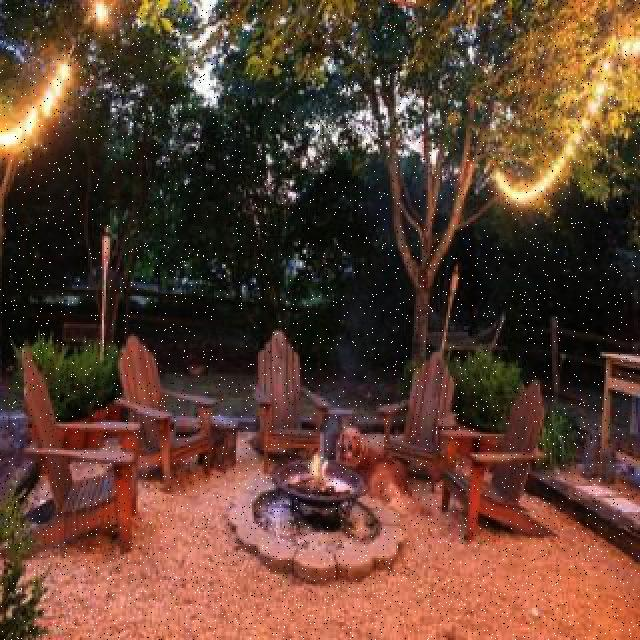fire: (309, 449, 330, 491)
light: (0, 59, 80, 153), (583, 30, 640, 152), (492, 149, 573, 217), (89, 6, 116, 28)
